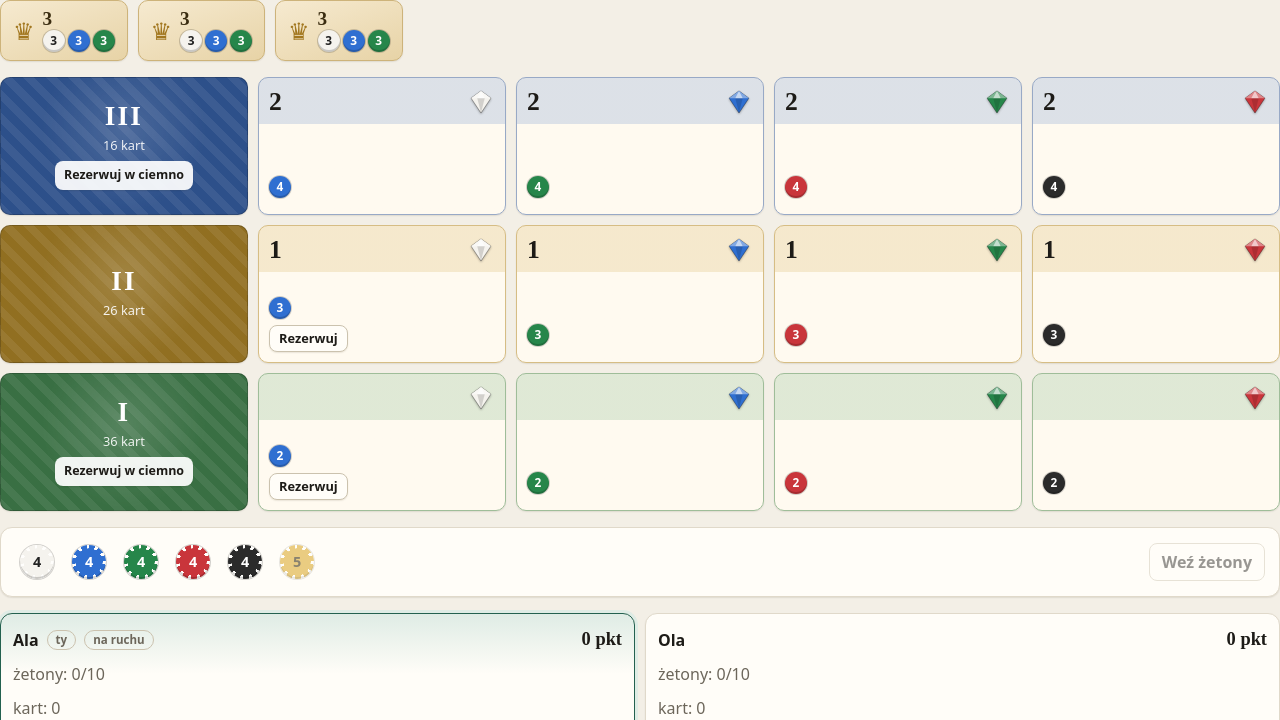
Test: board details › shows bank counts and marks picked tokens
Click the 1st button "4".
click(37, 562)  # box x1=15 y1=540 x2=59 y2=584
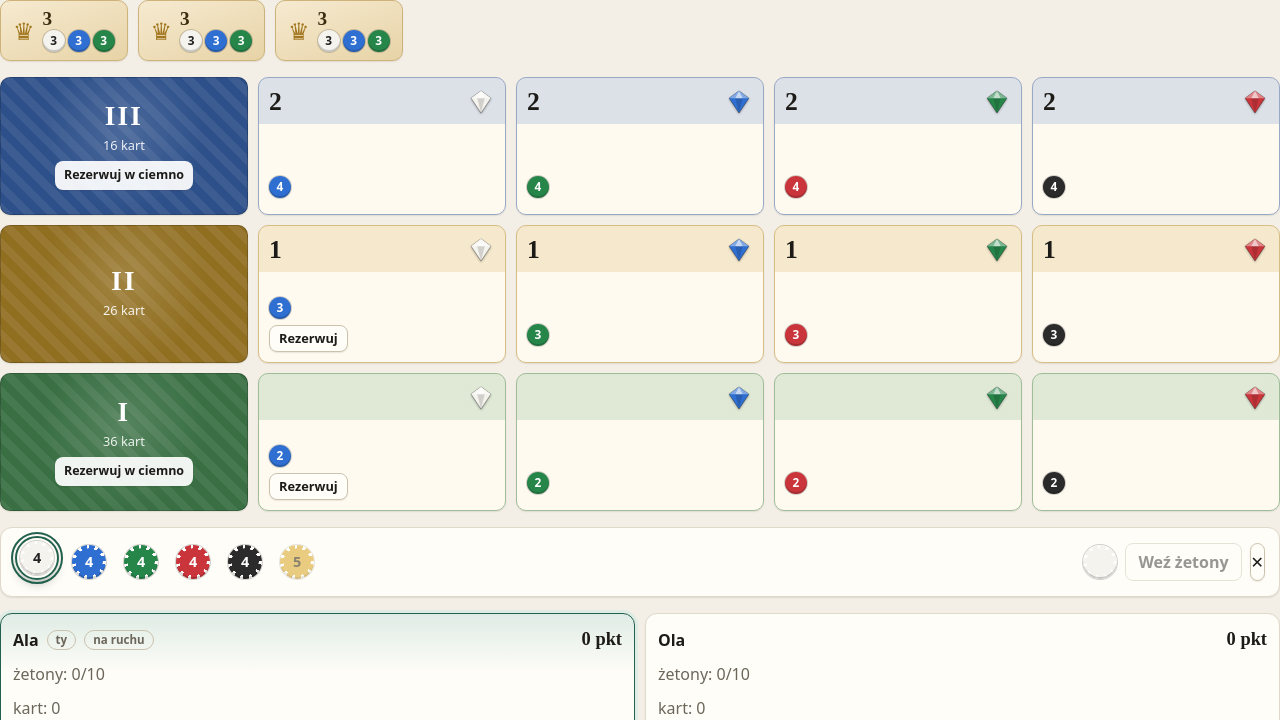
Check: the number of pictures named "biały" is 1, box x1=1083 y1=545 x2=1117 y2=579
